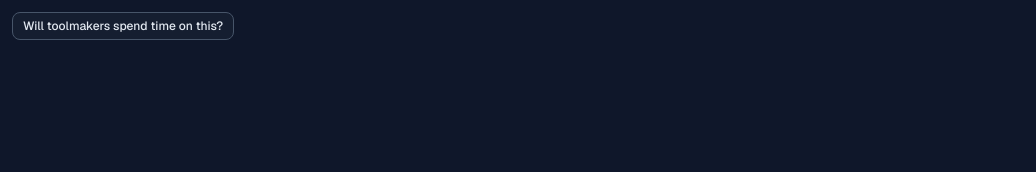
NoCostButton (C18) › Toolshop asks whether toolmakers spend time; absorbed needs hours
Later steps or results of the test are not shown.
What coordinates should you click on to do the following:
click the button with test id "nocost-open-3"
I would click on:
 (123, 26)
Its box is [12,12,234,40].
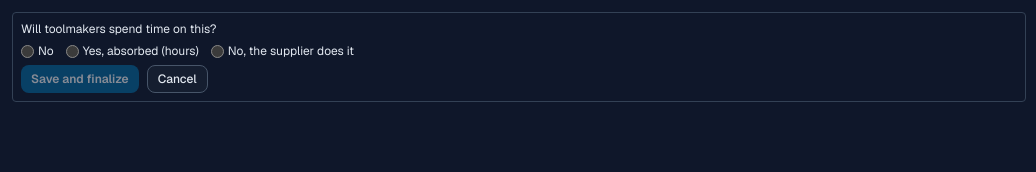
Now the element with test id "nocost-form-3" shows "Will toolmakers spend time on this?", box [21,21,216,37]
Now the button with test id "nocost-save-3" is disabled, box [21,65,139,93]
What coordinates should you click on to do the following:
click the radio button with test id "nocost-3-absorbed"
I would click on:
 (72, 51)
Its box is [66,44,79,58].
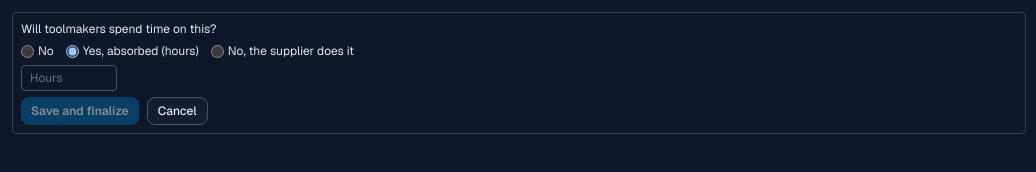
Now the button with test id "nocost-save-3" is disabled, box [21,97,139,125]
